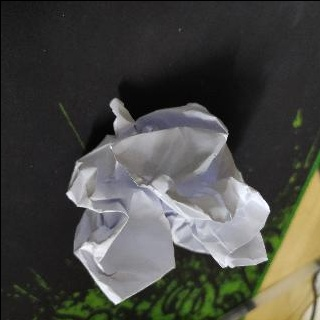8/可回收垃圾/纸: (65, 97, 270, 305)
